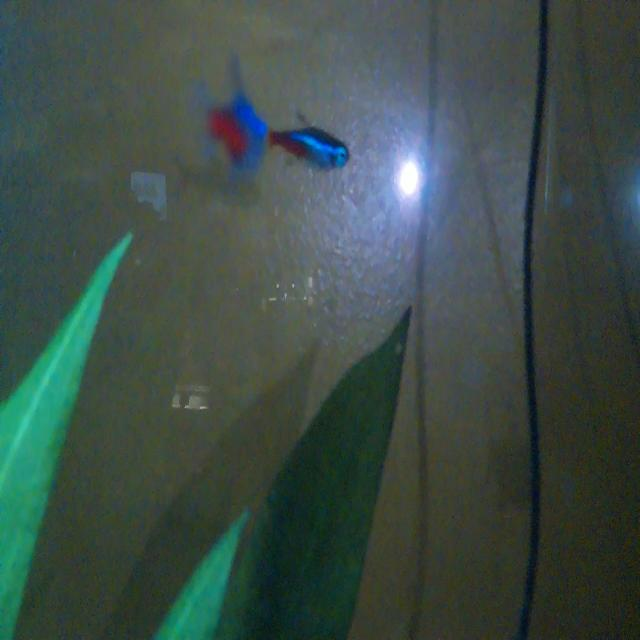fish: (270, 105, 360, 180)
